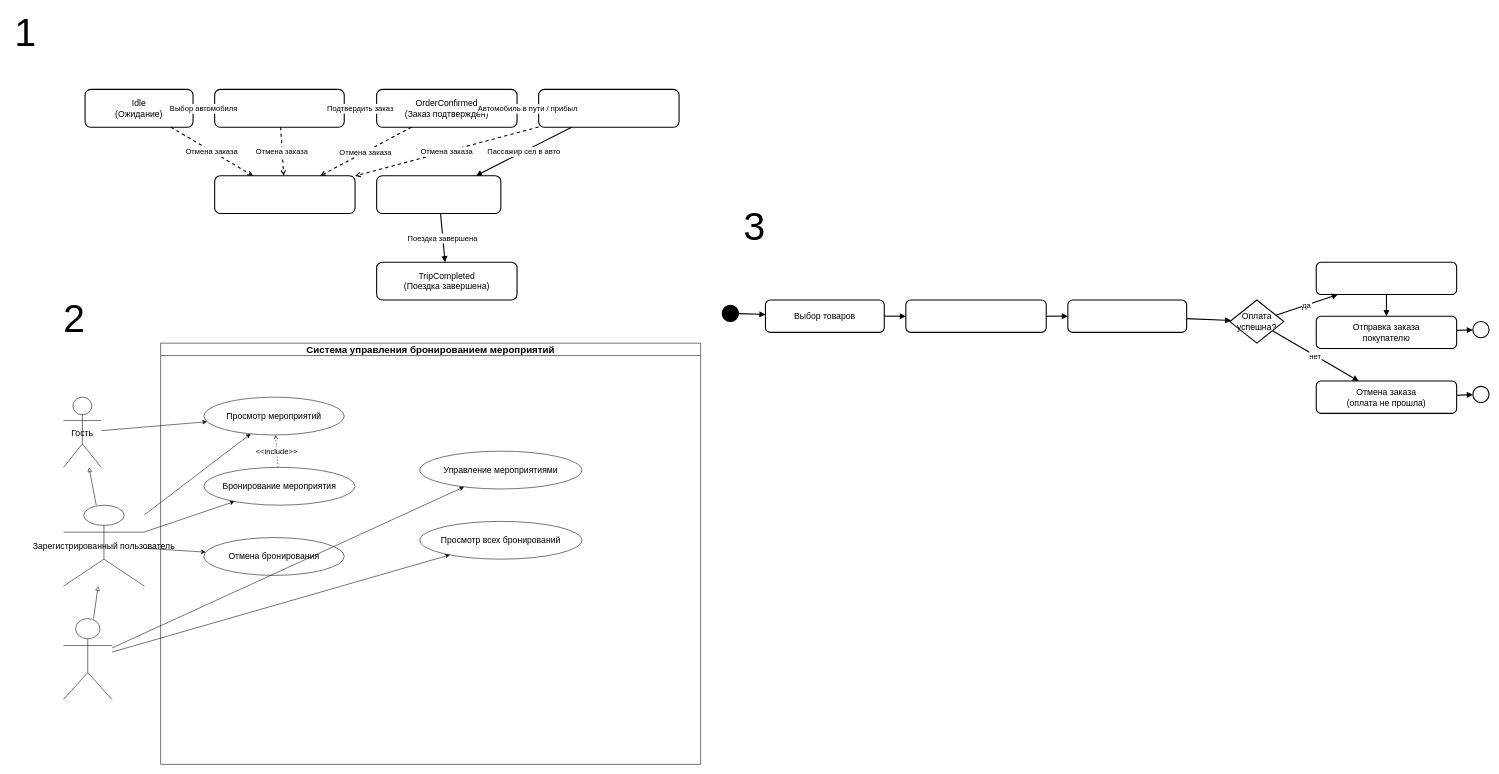
The diagram is 1499 pixels wide and 774 high, and some of its shapes have lost their labels. The shapes that lost their labels are listed below. From the top down, each one's box as (x1, y1, x2, y2) in pixels, then its label:
(214, 89, 345, 127): CarSelected (Автомобиль выбран)
(538, 89, 679, 127): CarArrived (Автомобиль прибыл)
(214, 175, 355, 214): TripCancelled (Заказ отменен)
(376, 175, 501, 214): InTrip (Поездка начата)
(1315, 261, 1457, 295): Обработка заказа (на складе)
(905, 299, 1047, 333): Оформление заказа (ввод данных)
(1067, 299, 1187, 333): Оплата заказа
(63, 618, 112, 700): Администратор
